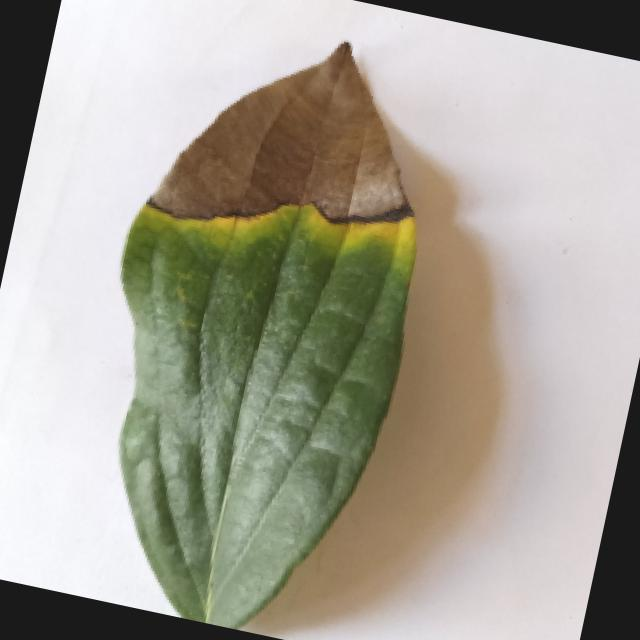footrot: (45, 4, 460, 640)
